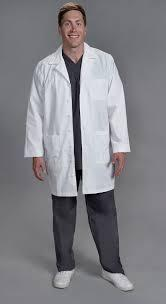lab_coat: (21, 40, 133, 204)
